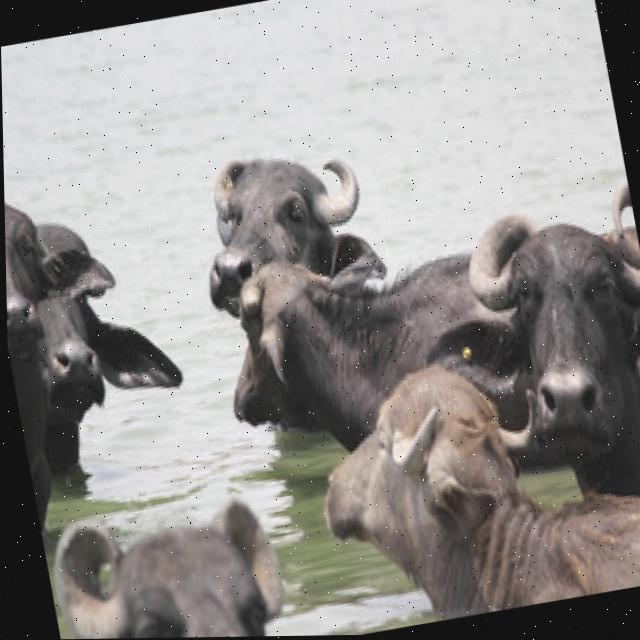Buffalo: (299, 352, 548, 628), (450, 165, 640, 478), (46, 482, 315, 639), (208, 242, 389, 438), (195, 142, 376, 309), (4, 180, 119, 322), (19, 278, 120, 420), (228, 255, 329, 356)
